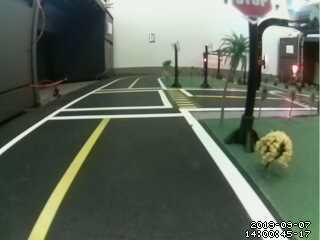Stop_Sign: (228, 1, 280, 22)
